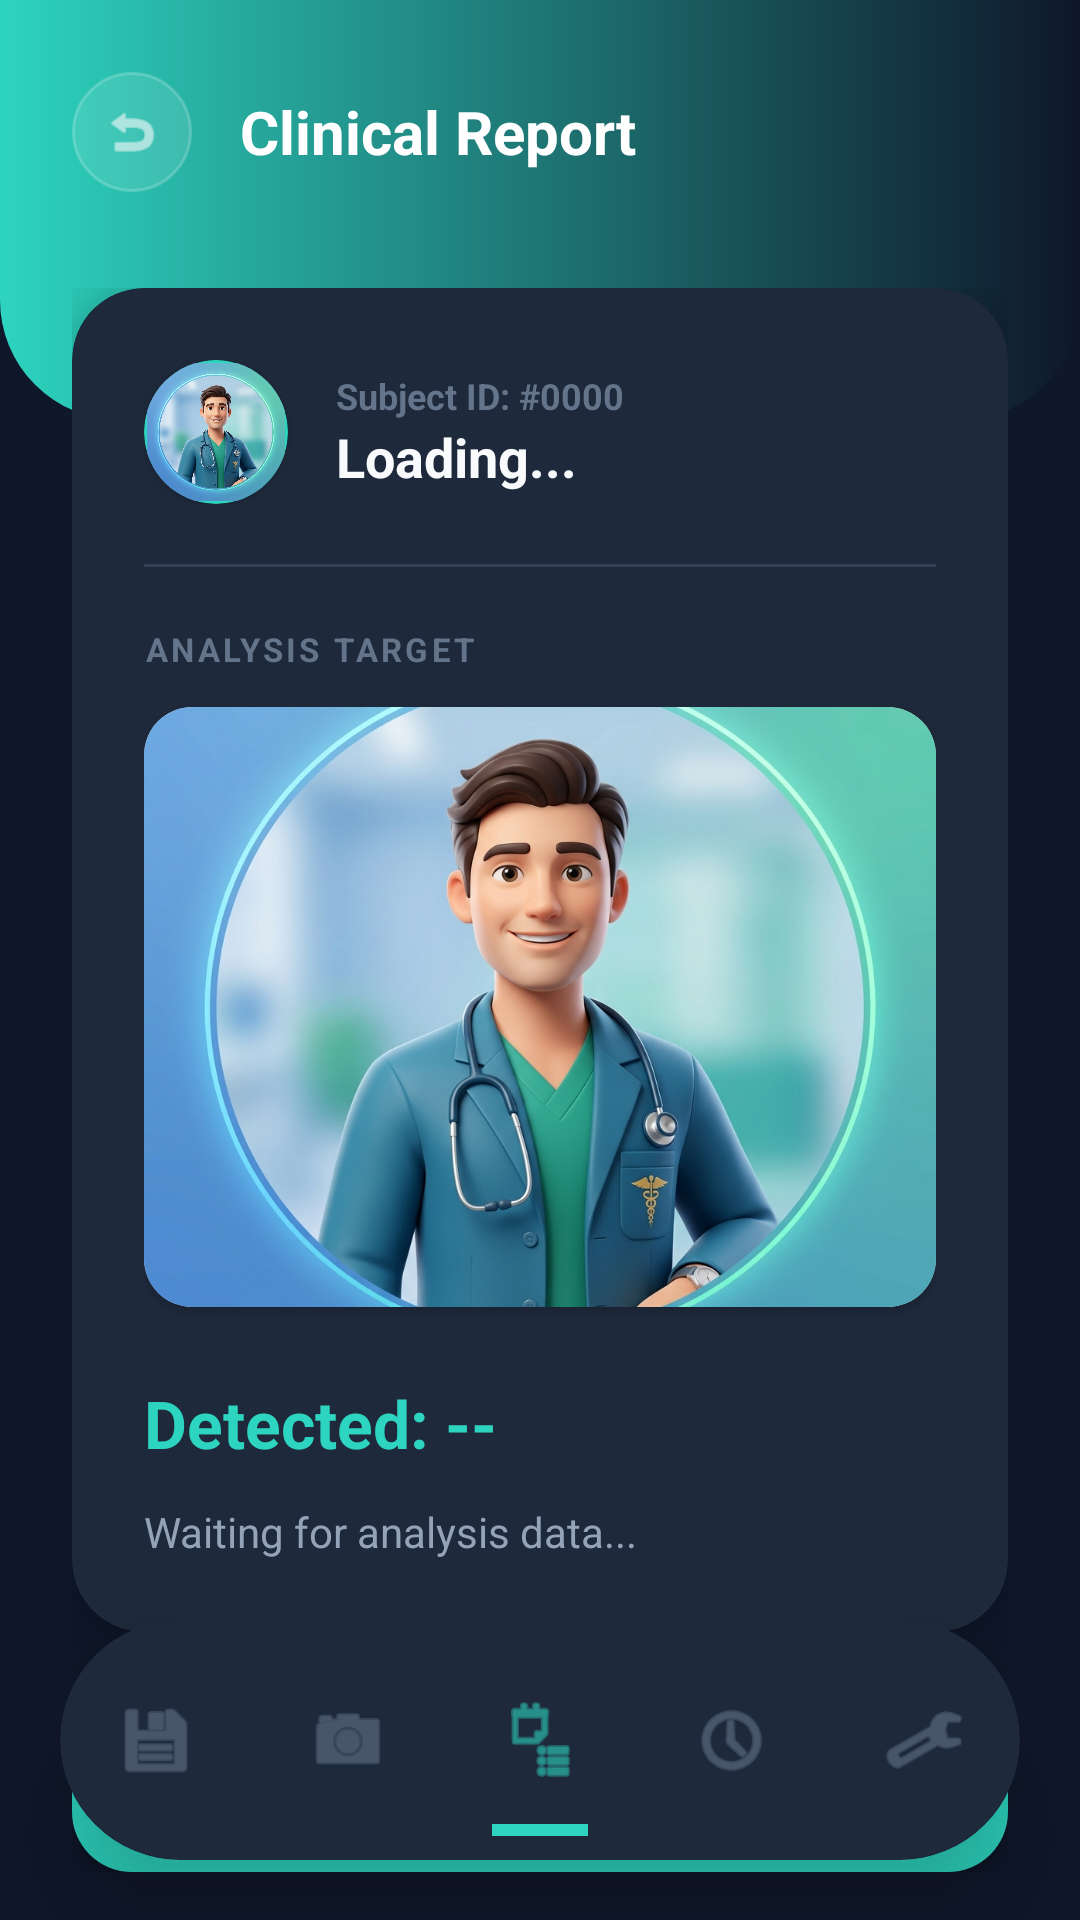

Point at icon controls on the screen. Image size 1080×1920, points as (x,y).
agenda: (540,1739)
camera: (348,1739)
manage: (924,1740)
recent history: (732,1740)
revert: (132,132)
save: (156,1740)
